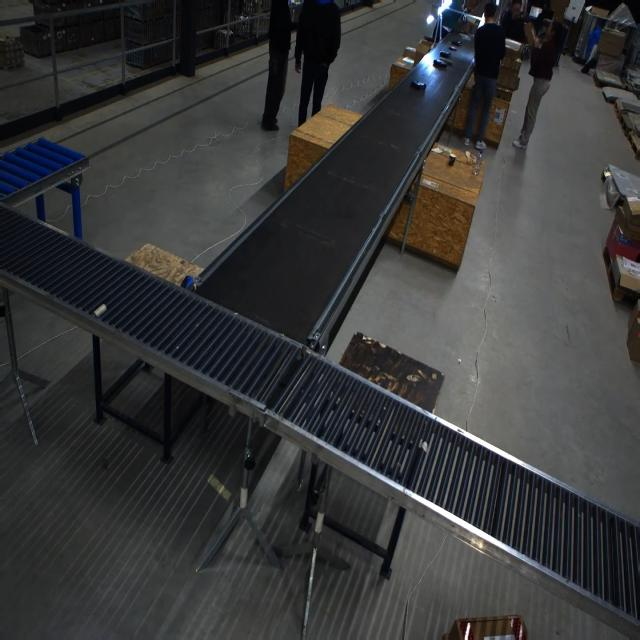box: (597, 28, 626, 56)
product: (410, 80, 426, 90), (432, 59, 447, 68), (439, 57, 453, 65), (459, 33, 472, 41), (439, 50, 451, 58), (451, 40, 461, 46), (448, 45, 458, 51)
